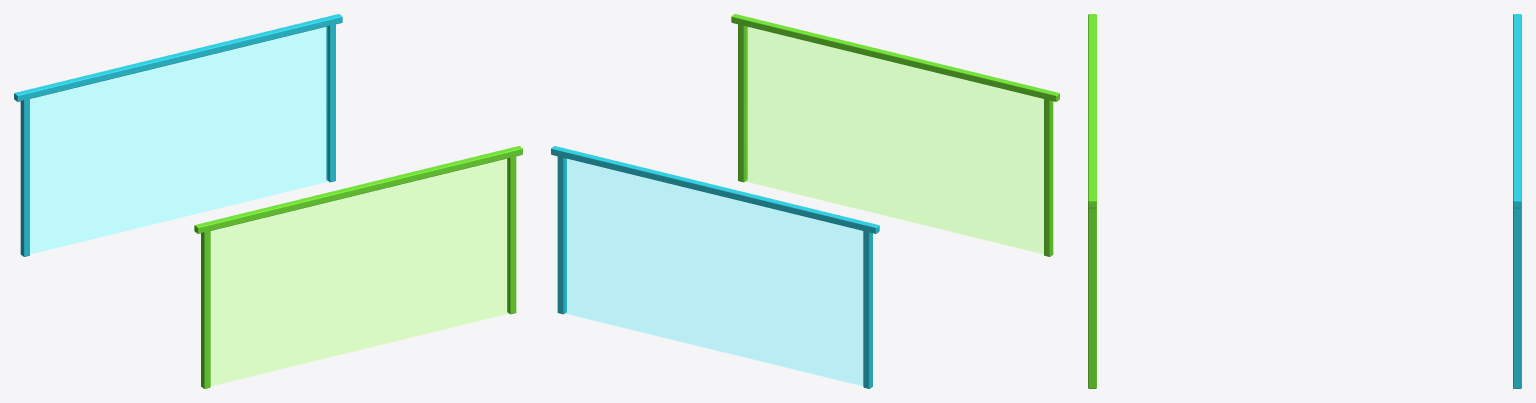
File: Stage_Frames_Unlocked.fbx
3 renders of one model, left to right at view 1: azimuth 30°, elevation 25°; view 2: azimuth 150°, elevation 25°; view 3: azimuth 270°, elevation 25°, orthographic. The views are drawn at different scales.
Parts seen in each view (by area): view 1: Stage03_Pane, Stage02_Pane, Stage02_Gate, Stage03_Gate; view 2: Stage02_Pane, Stage03_Pane, Stage03_Gate, Stage02_Gate; view 3: Stage02_Gate, Stage03_Gate.
Part boxes in pixels (x1,y1,x2,y2): Stage03_Pane: (30,26,327,253); Stage02_Pane: (211,159,508,385); Stage02_Gate: (194,146,522,388); Stage03_Gate: (14,14,342,256); Stage02_Pane: (746,27,1043,253); Stage03_Pane: (565,159,862,385); Stage03_Gate: (551,146,879,388); Stage02_Gate: (731,14,1059,256); Stage02_Gate: (1088,14,1096,388); Stage03_Gate: (1513,14,1521,388).
Bounding box in the file's own units: 50 × 24 × 49.
